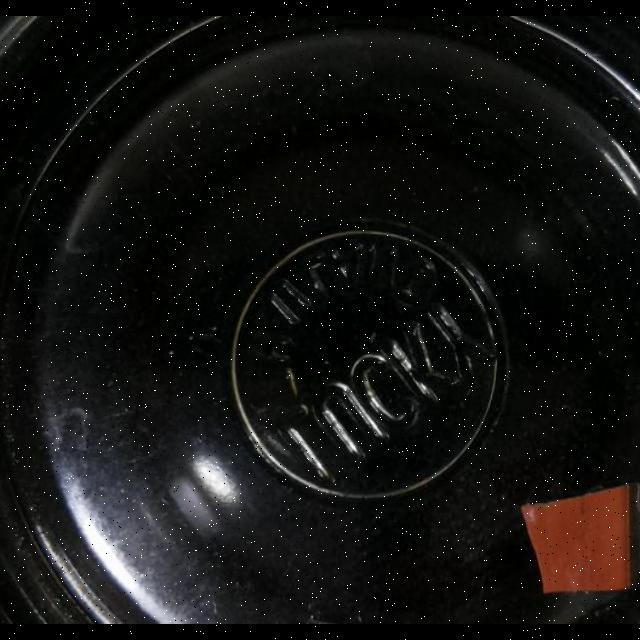Fragment: (522, 486, 638, 596)
